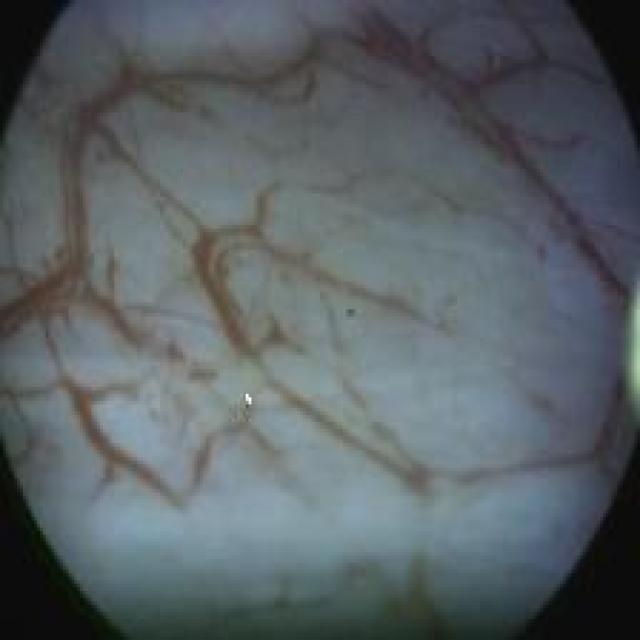color misalignment: (616, 271, 639, 420), (342, 305, 356, 320)
